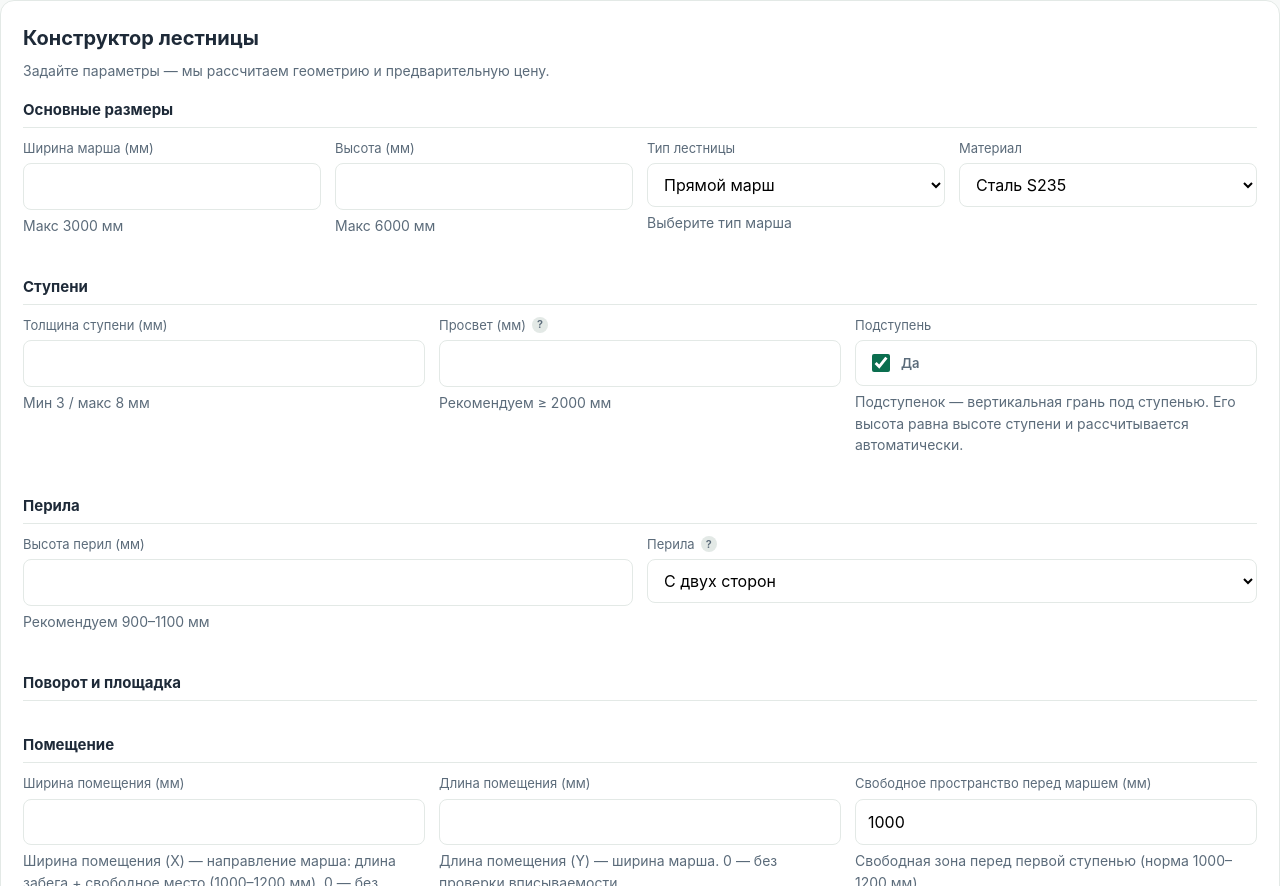
Test: Constructor › не вызывает расчёт при ошибках валидации
Step 1. Type "100" into the field labelled "Ширина марша (мм)" → (172, 186), box [23, 163, 321, 210]
(page scrolled)
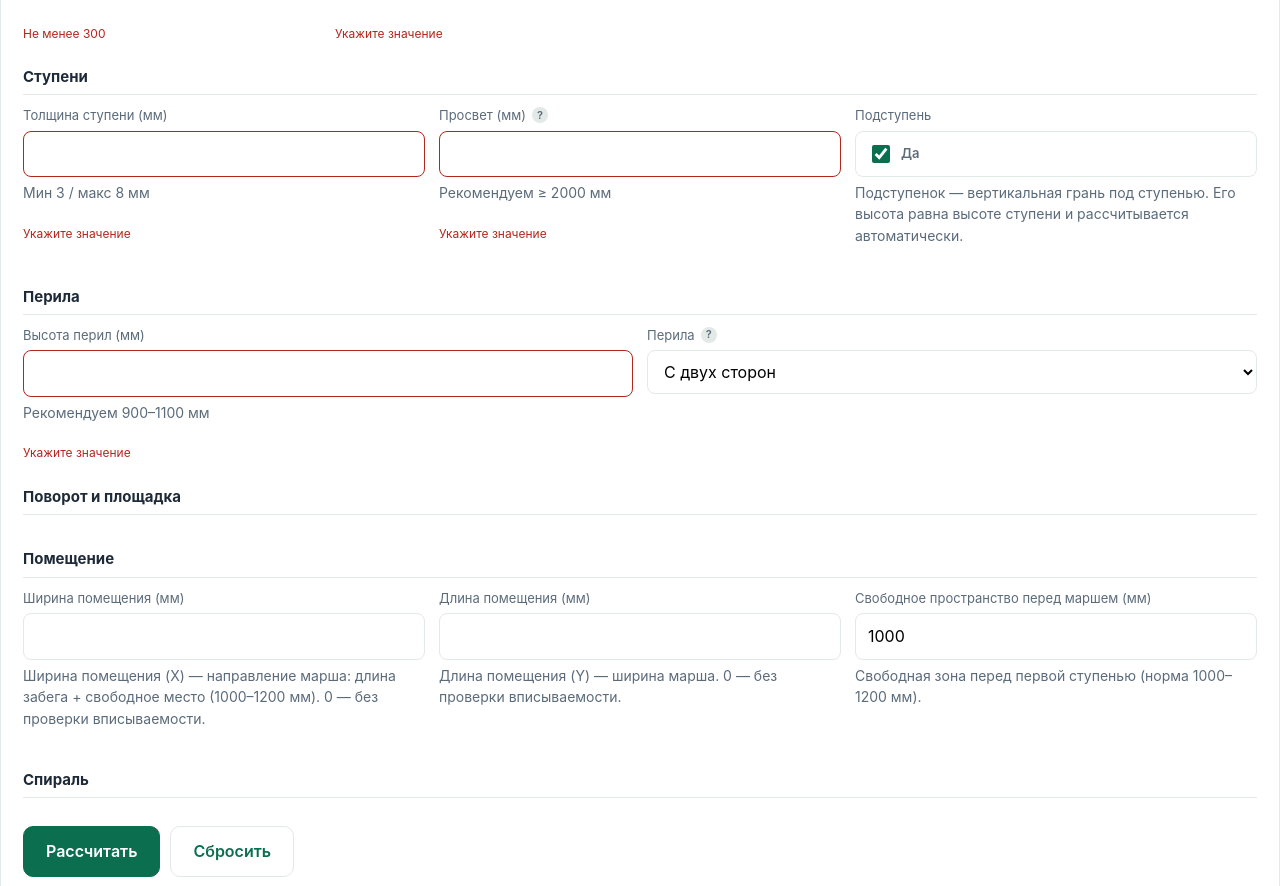
Step 2. Click the button "Рассчитать" → (92, 851), box [23, 826, 160, 877]
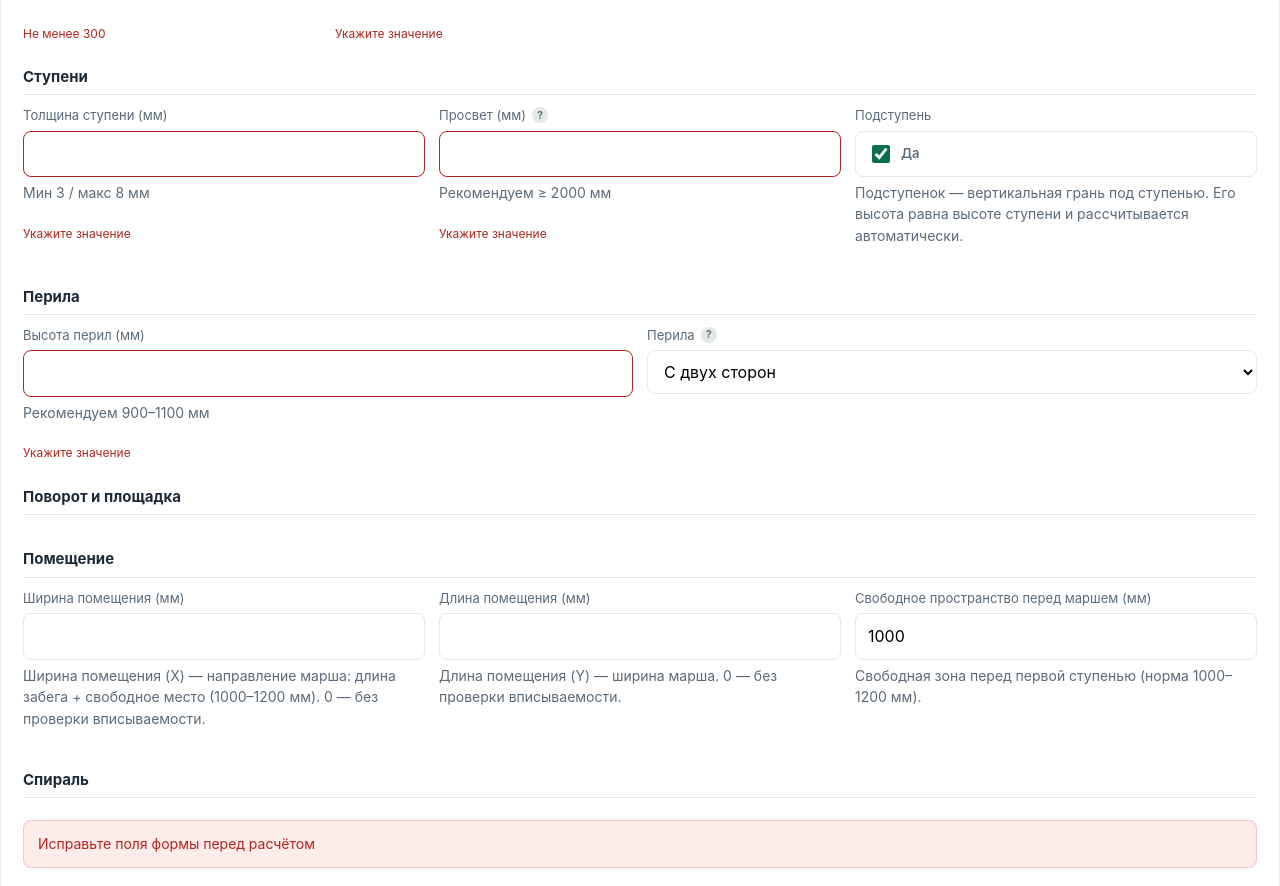
Expected: the text "Исправьте поля формы перед расчётом" is shown, [23, 820, 1257, 868]
